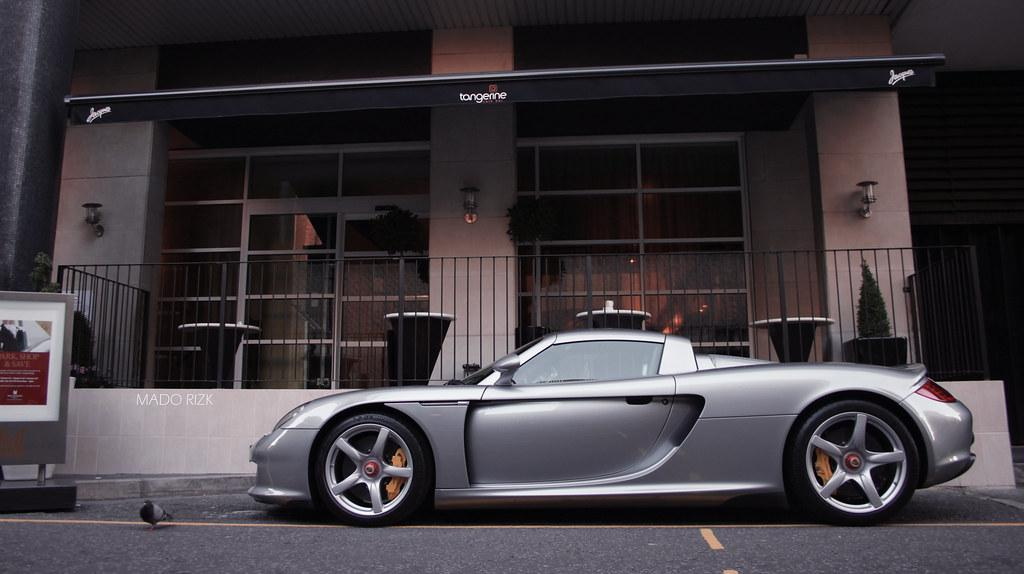car: (247, 327, 977, 527)
